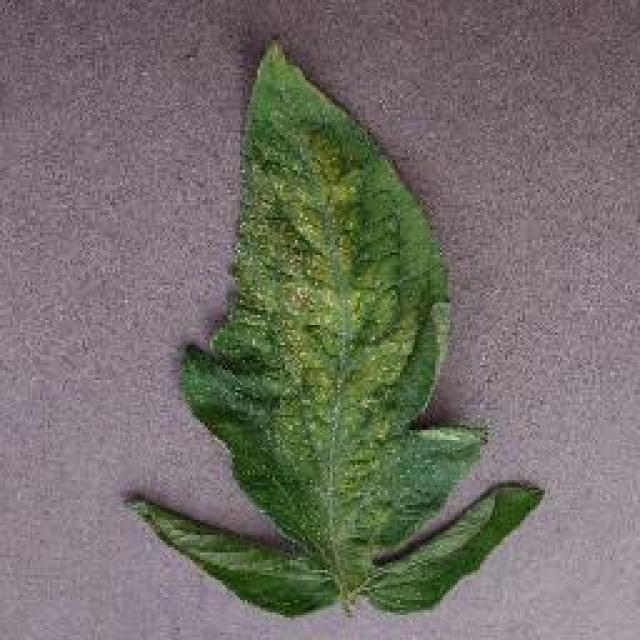Tomato spider mites leaf: (125, 33, 546, 620)
